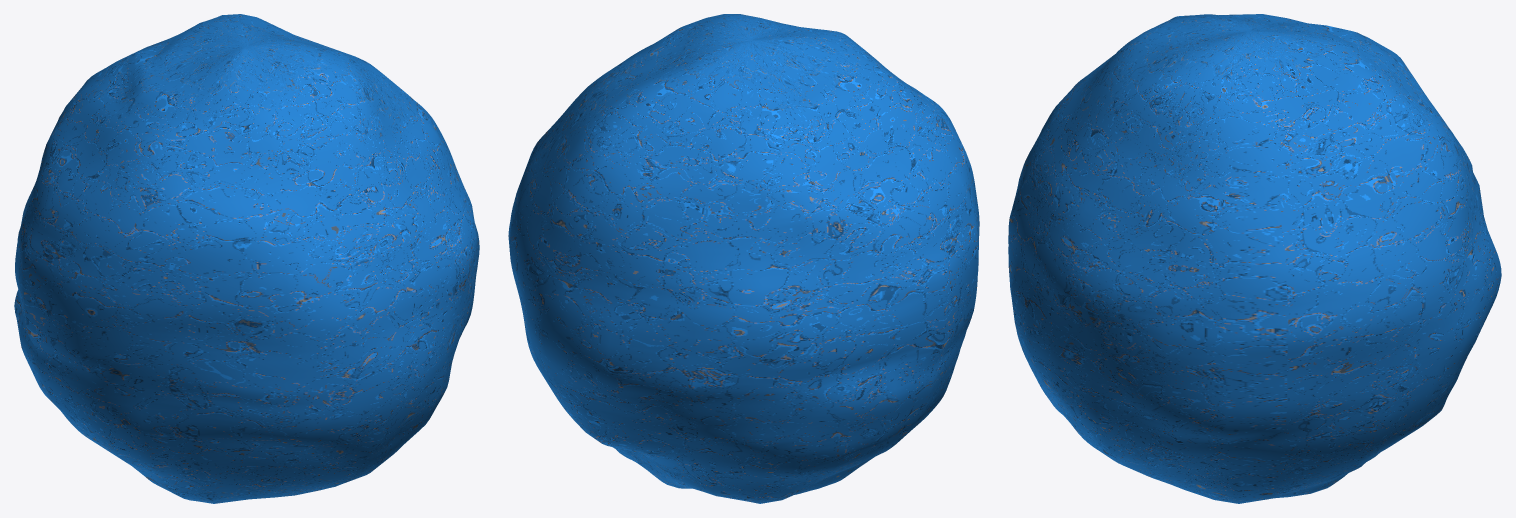
The model's file is b_cell.fbx.
3 renders of one model, left to right at view 1: azimuth 30°, elevation 25°; view 2: azimuth 150°, elevation 25°; view 3: azimuth 270°, elevation 25°, orthographic. The views are drawn at different scales.
Parts seen in each view (by area): view 1: pSphere1; view 2: pSphere1; view 3: pSphere1.
Boxes of the visible parts, x1,y1,x2,y2 form: pSphere1: (14,14,479,503); pSphere1: (508,14,979,503); pSphere1: (1008,14,1501,503).
Bounding box in the file's own units: 36.22 × 35.3 × 36.01.
1 material, 1 textured.
